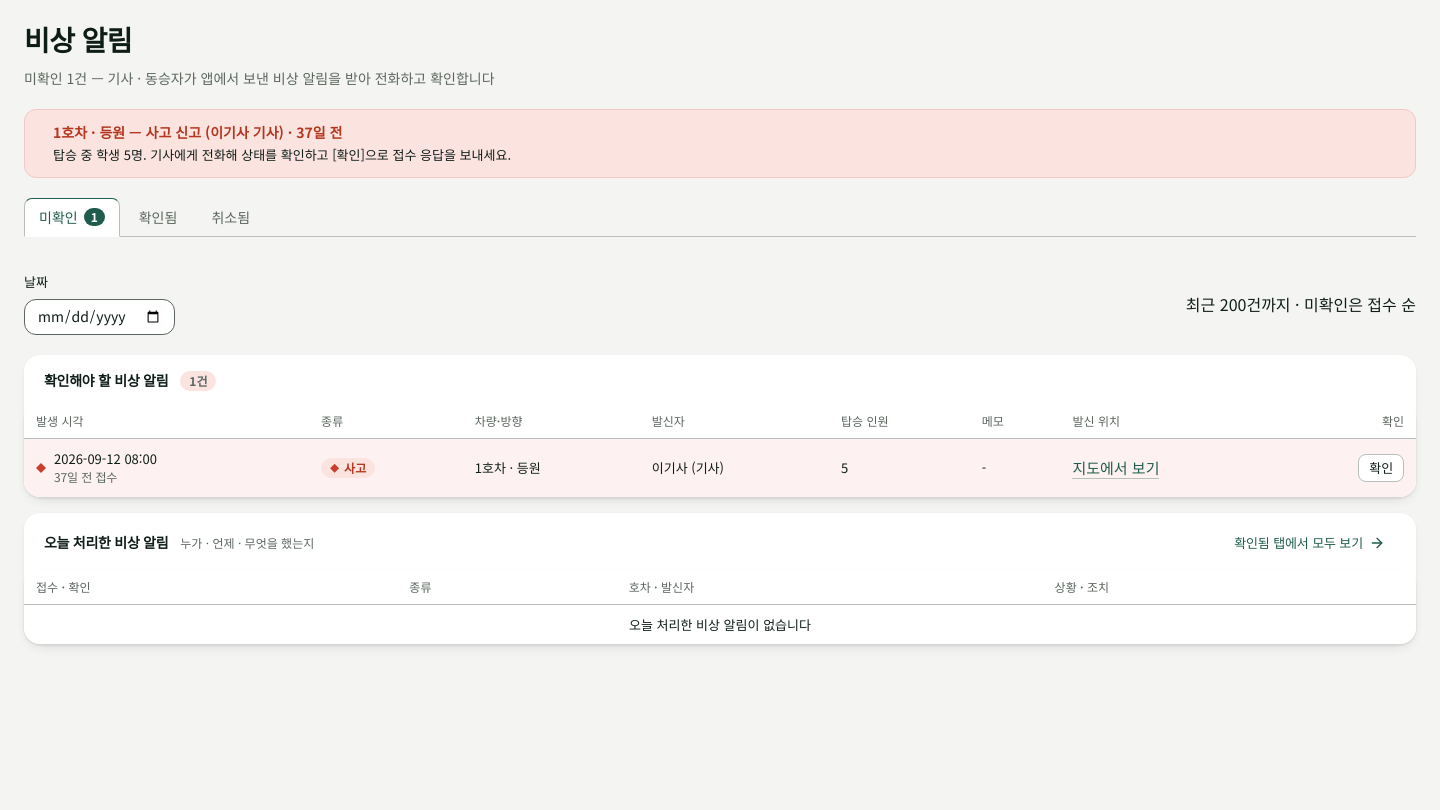
EmergencyList — 취소된 건 › 확인 직전에 신고가 철회돼 409 EMERGENCY_CANCELED 가 오면 철회 안내를 보이고 목록을 다시 불러온다
Click the button "확인".
click(1381, 468)  # box [1358,454,1404,482]
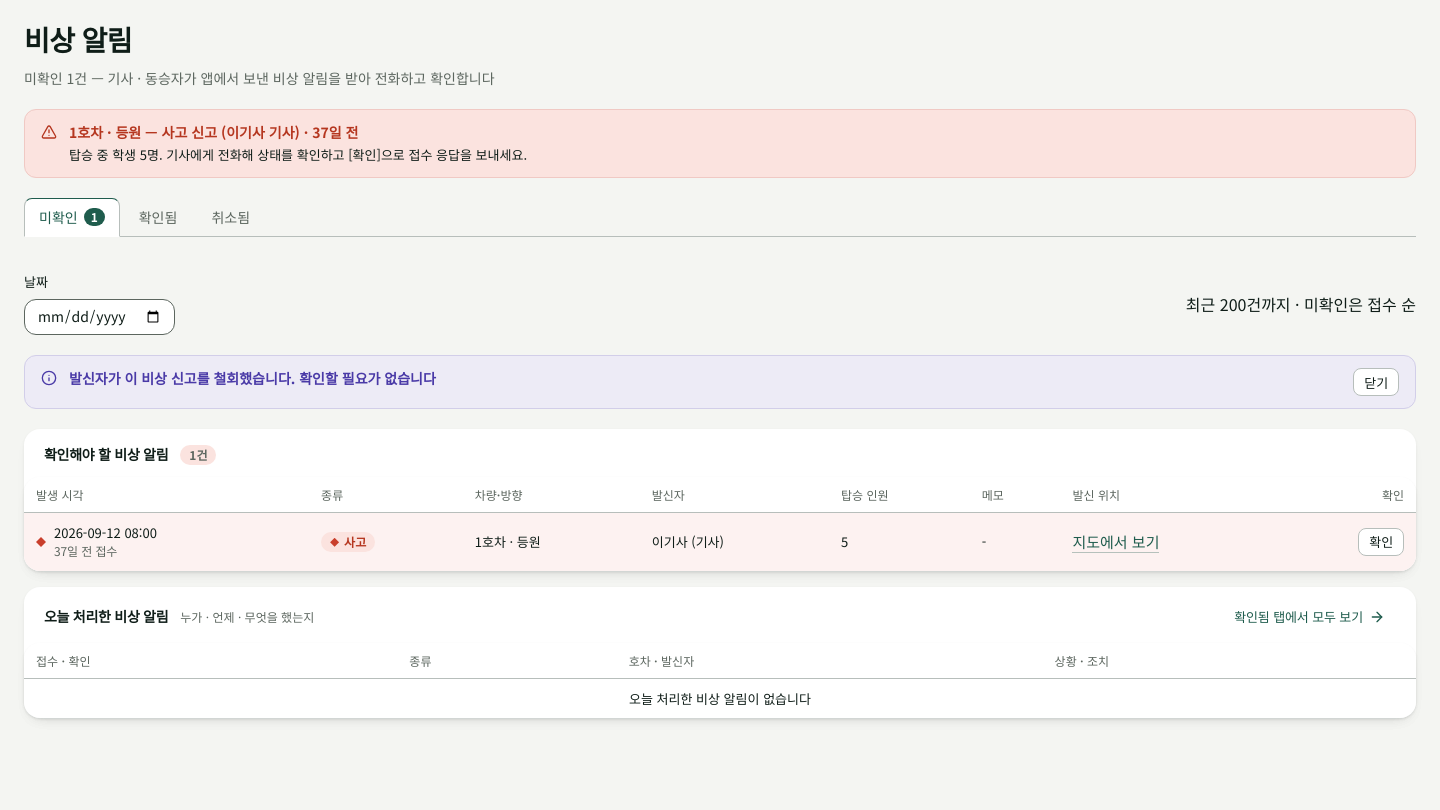
Check: the text "발신자가 이 비상 신고를 철회했습니다. 확인할 필요가 없습니다" is shown, box [69,368,436,388]
